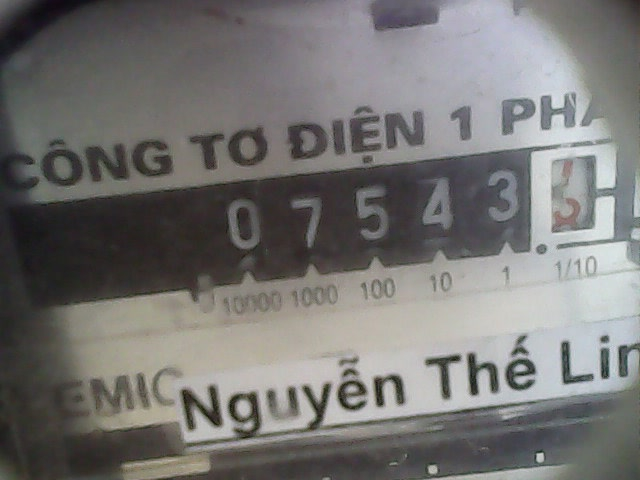phy_plate: (193, 136, 621, 263)
